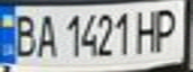1: (112, 8, 133, 56), (60, 10, 81, 57)
2: (97, 9, 118, 57)
4: (78, 9, 100, 57)
A: (33, 10, 60, 58)
B: (9, 10, 39, 58)
H: (133, 4, 163, 54)
P: (151, 3, 184, 53)
